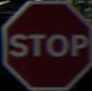Stop: (1, 12, 89, 81)
